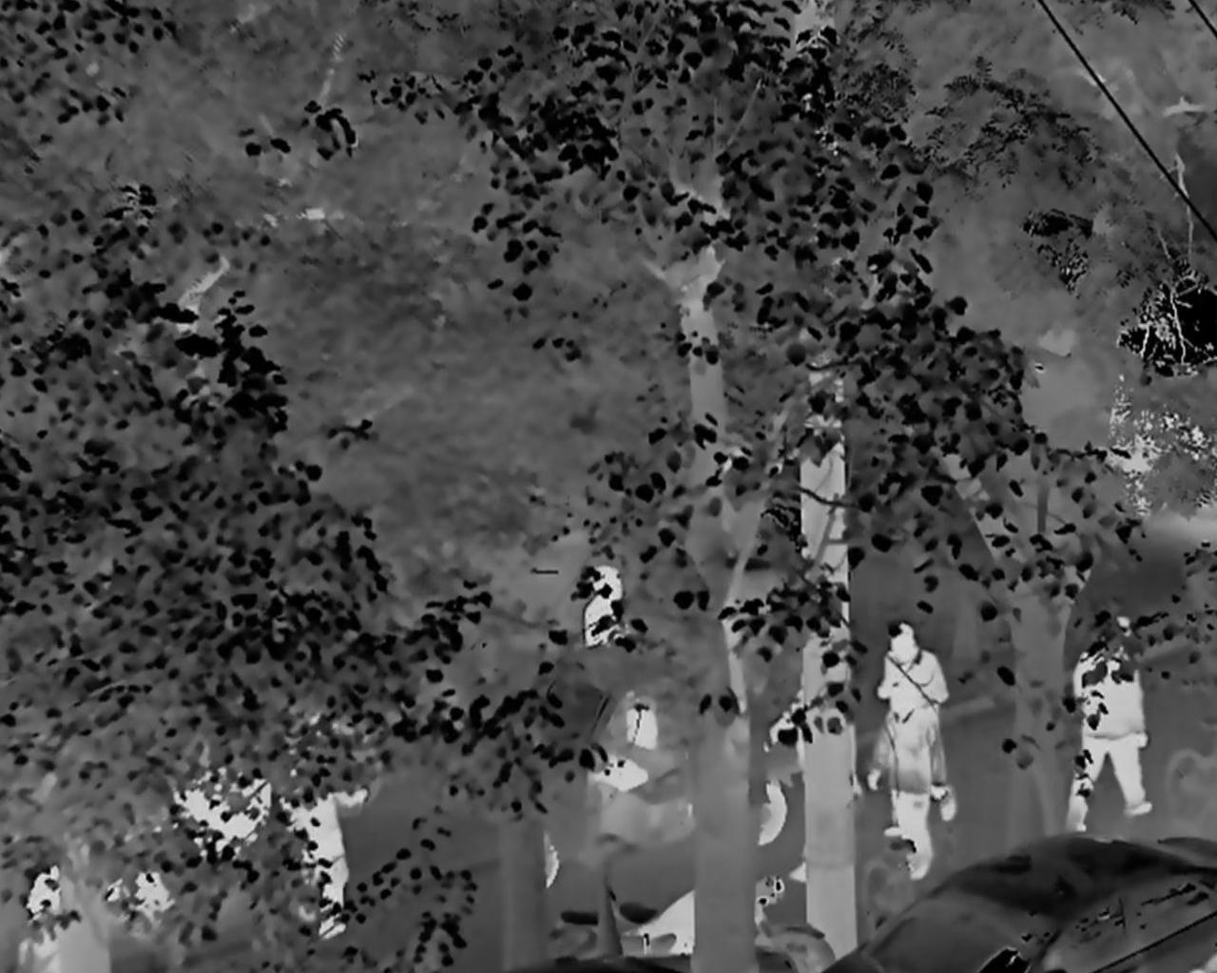person: (1068, 615, 1152, 834), (278, 754, 368, 942), (874, 620, 955, 824), (870, 682, 937, 878), (582, 563, 622, 647)
